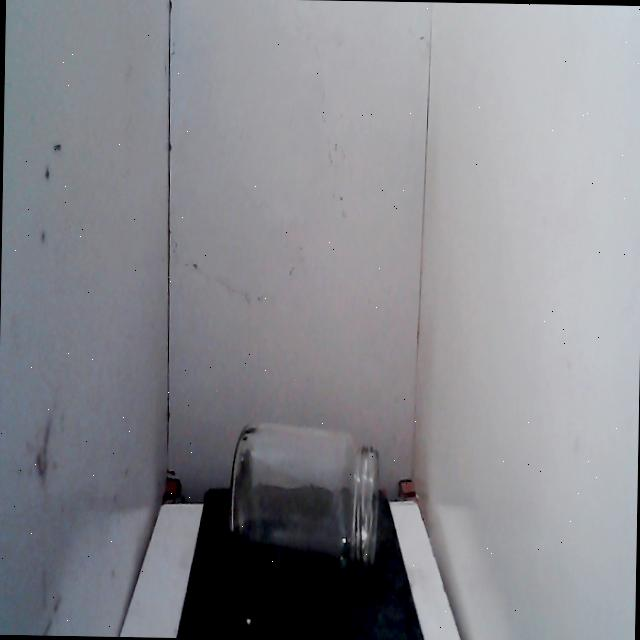glass: (220, 405, 390, 598)
